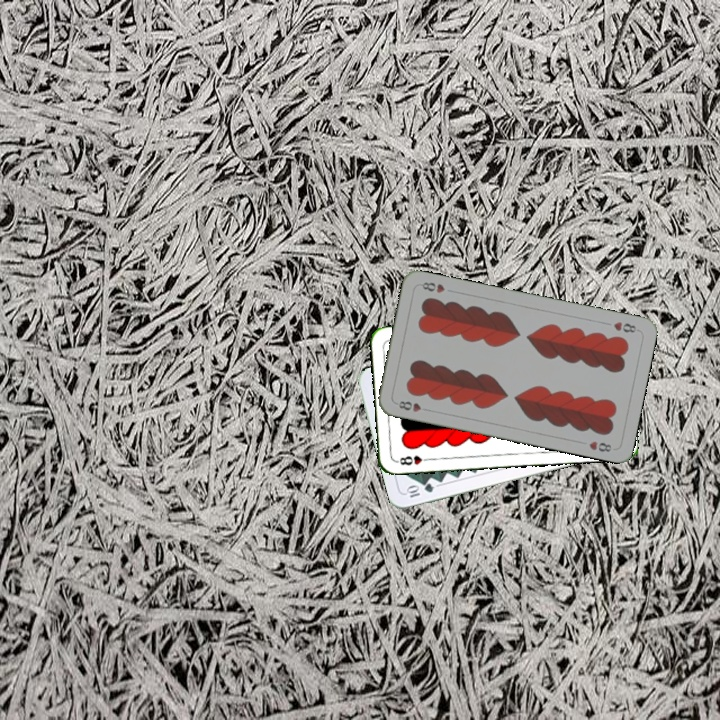G10: (402, 479, 436, 500)
H8: (394, 397, 432, 414), (393, 452, 433, 468), (609, 318, 641, 335)
